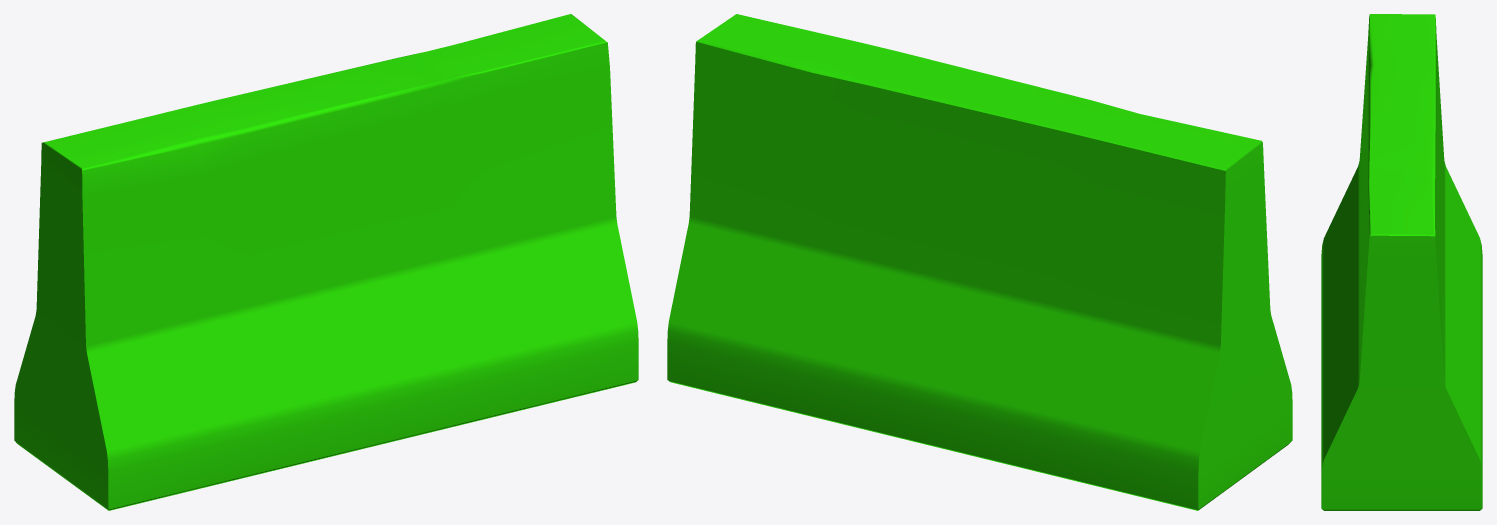
Rendered from Concrete_Blocker_01_Lod0.fbx.
3 renders of one model, left to right at view 1: azimuth 30°, elevation 25°; view 2: azimuth 150°, elevation 25°; view 3: azimuth 270°, elevation 25°, orthographic. The views are drawn at different scales.
Parts seen in each view (by area): view 1: Concrete_Blocker_01_Lod0; view 2: Concrete_Blocker_01_Lod0; view 3: Concrete_Blocker_01_Lod0.
Boxes of the visible parts, x1,y1,x2,y2 form: Concrete_Blocker_01_Lod0: (14,14,638,510); Concrete_Blocker_01_Lod0: (667,14,1292,510); Concrete_Blocker_01_Lod0: (1321,14,1482,510).
Bounding box in the file's own units: 119 × 68.94 × 36.4.
